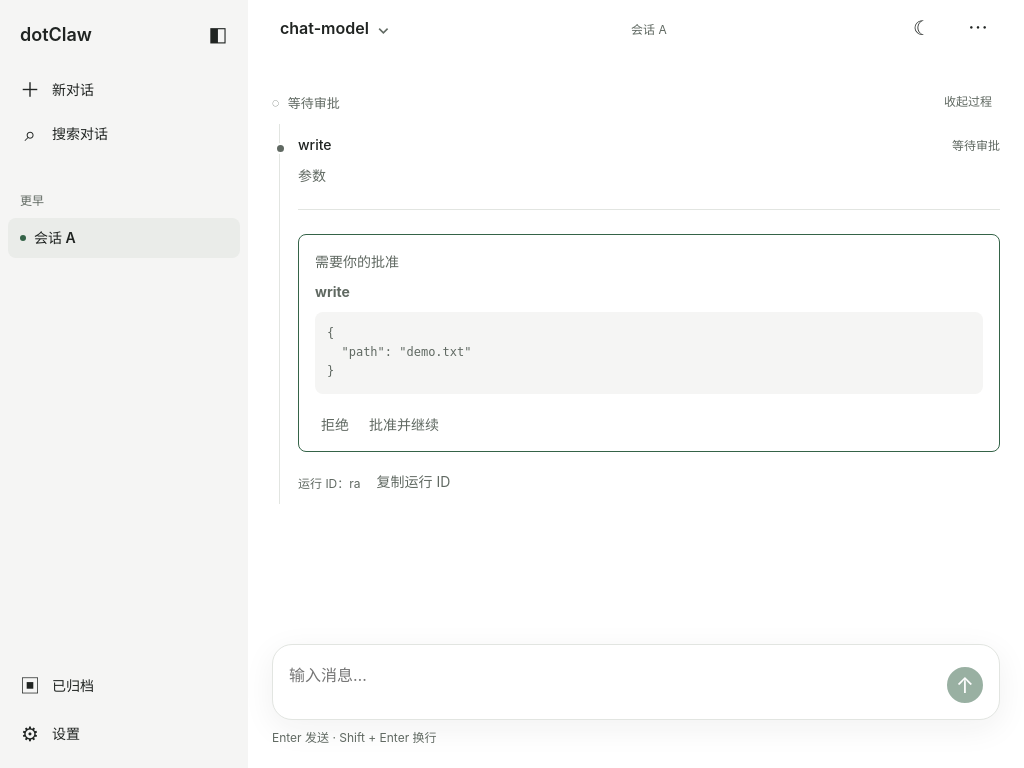
Test case: 待审批入口显式展示，展开参数后才能决定并继续消费恢复流
The width and height of the screenshot is (1024, 768).
Expected: the element named "工具审批" is shown, [298,234,1000,452]
What coordinates should you click on to do the following:
click the heading "参数"
I would click on:
 (312, 176)
Its box is [298,167,326,184].
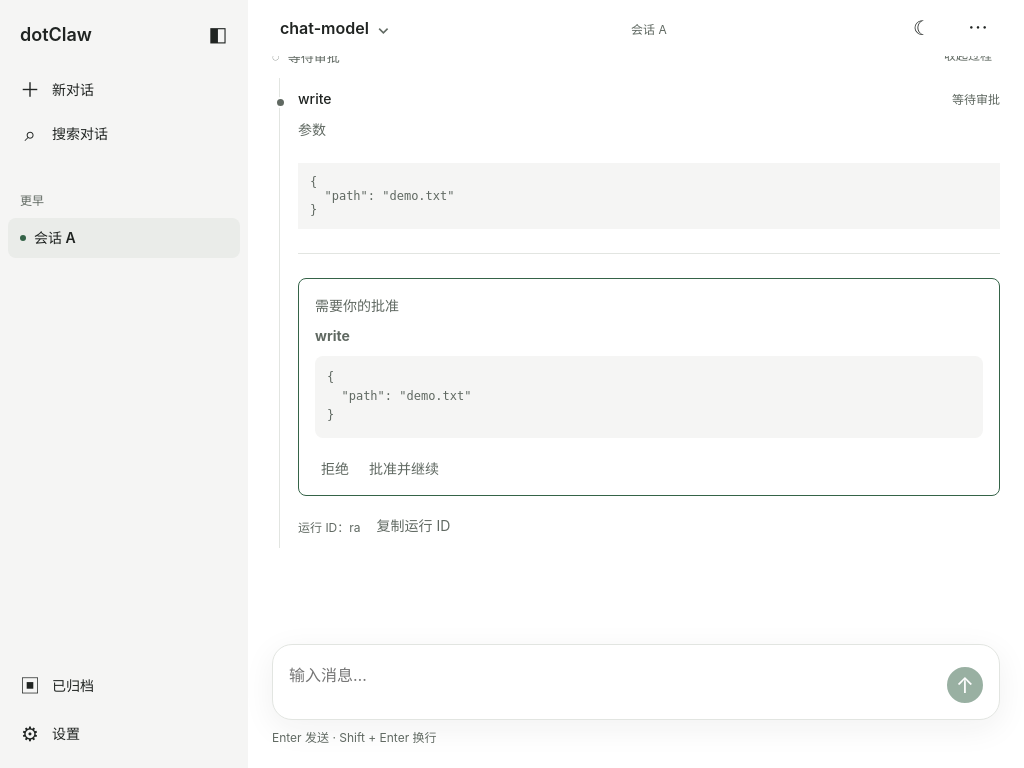
Result: the text "{ \"path\": \"demo.txt\" }" below "参数" is shown at [310,175,454,217]
What coordinates should you click on to do the following:
click the button "批准并继续"
I would click on:
 (404, 468)
Its box is [363,458,445,479].
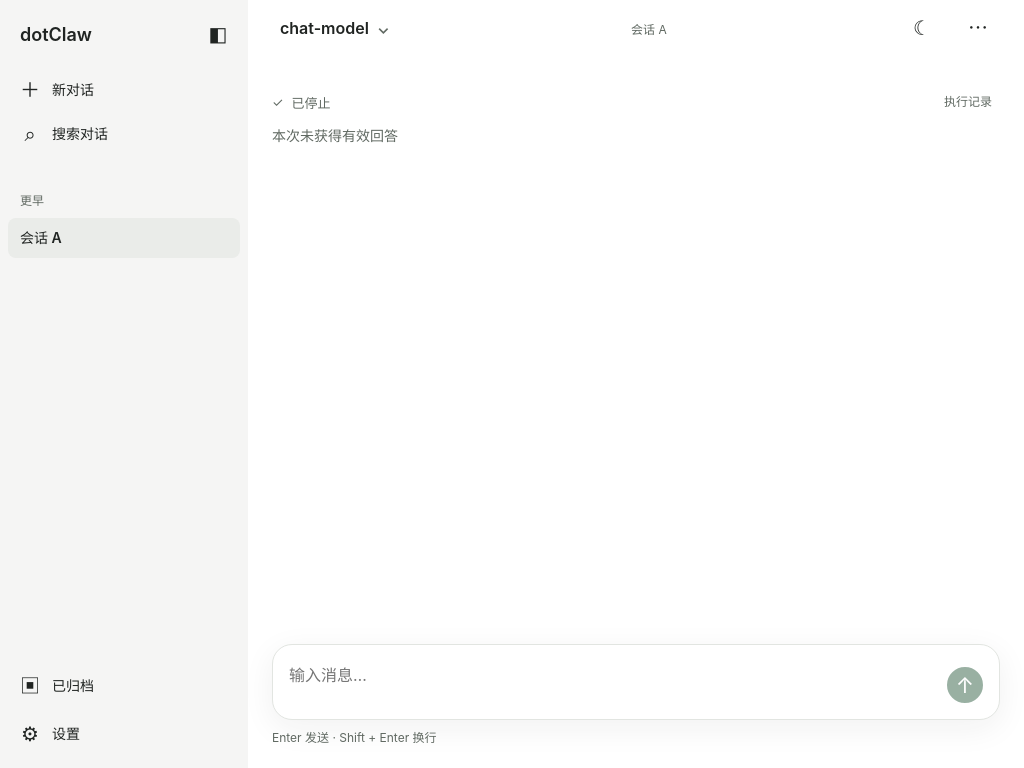
Result: the button "批准并继续" is gone
